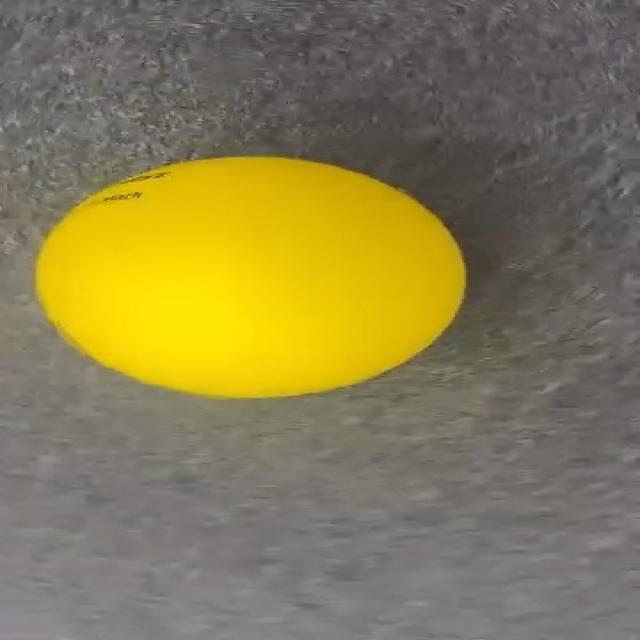Fuels: (37, 156, 464, 396)
